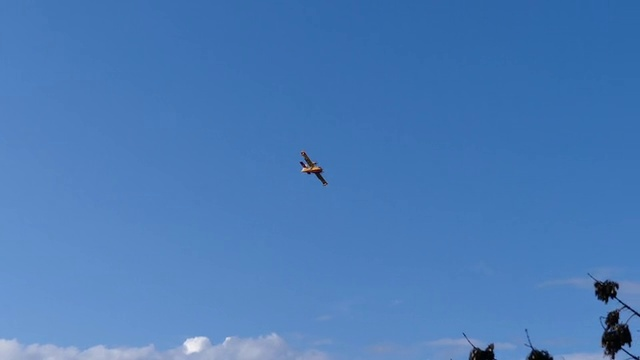plane: (299, 151, 328, 185)
